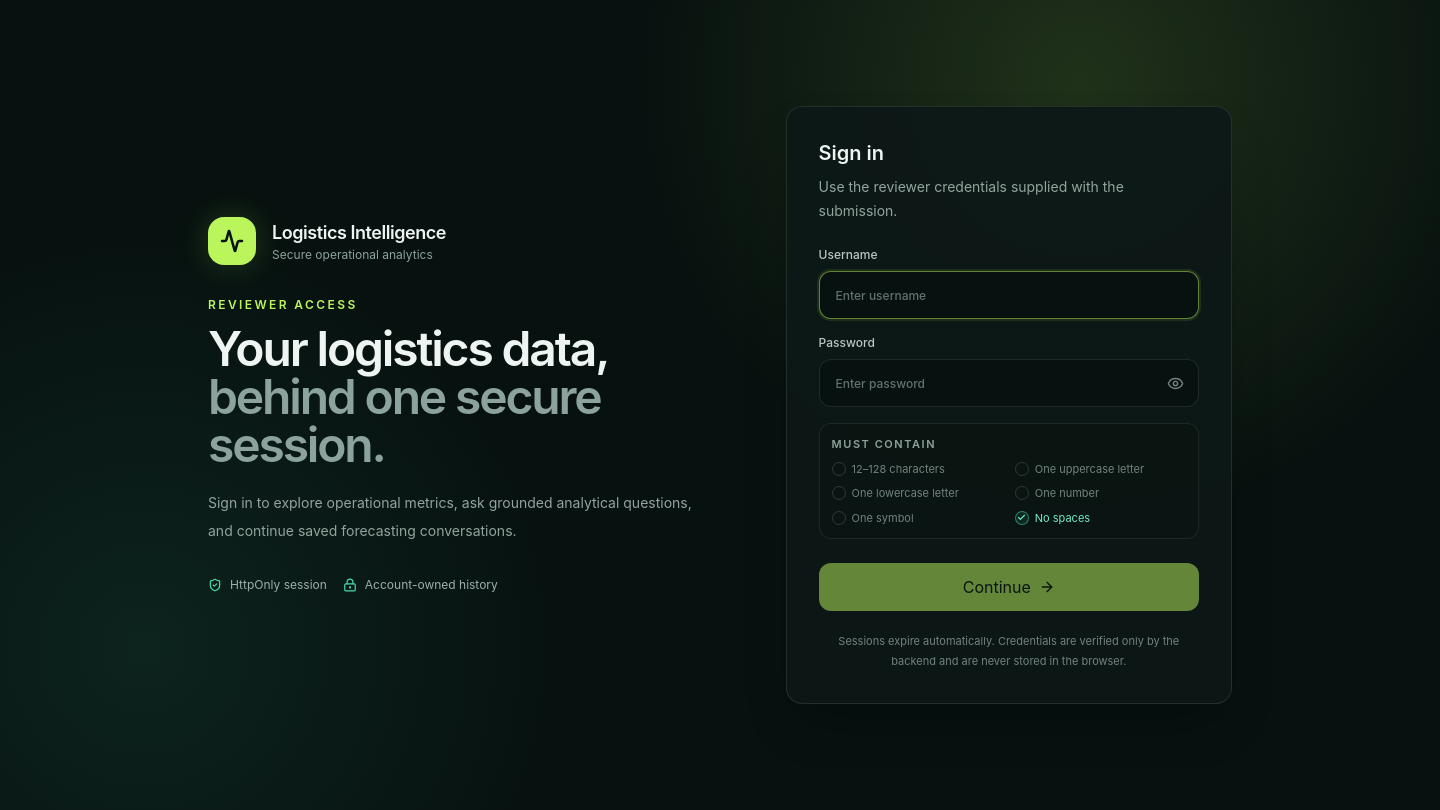
LoginScreen › shows a generic invalid-credentials error
Step 1. Type "reviewer" into the field labelled "Username" → (1009, 295), box x1=819 y1=271 x2=1199 y2=319
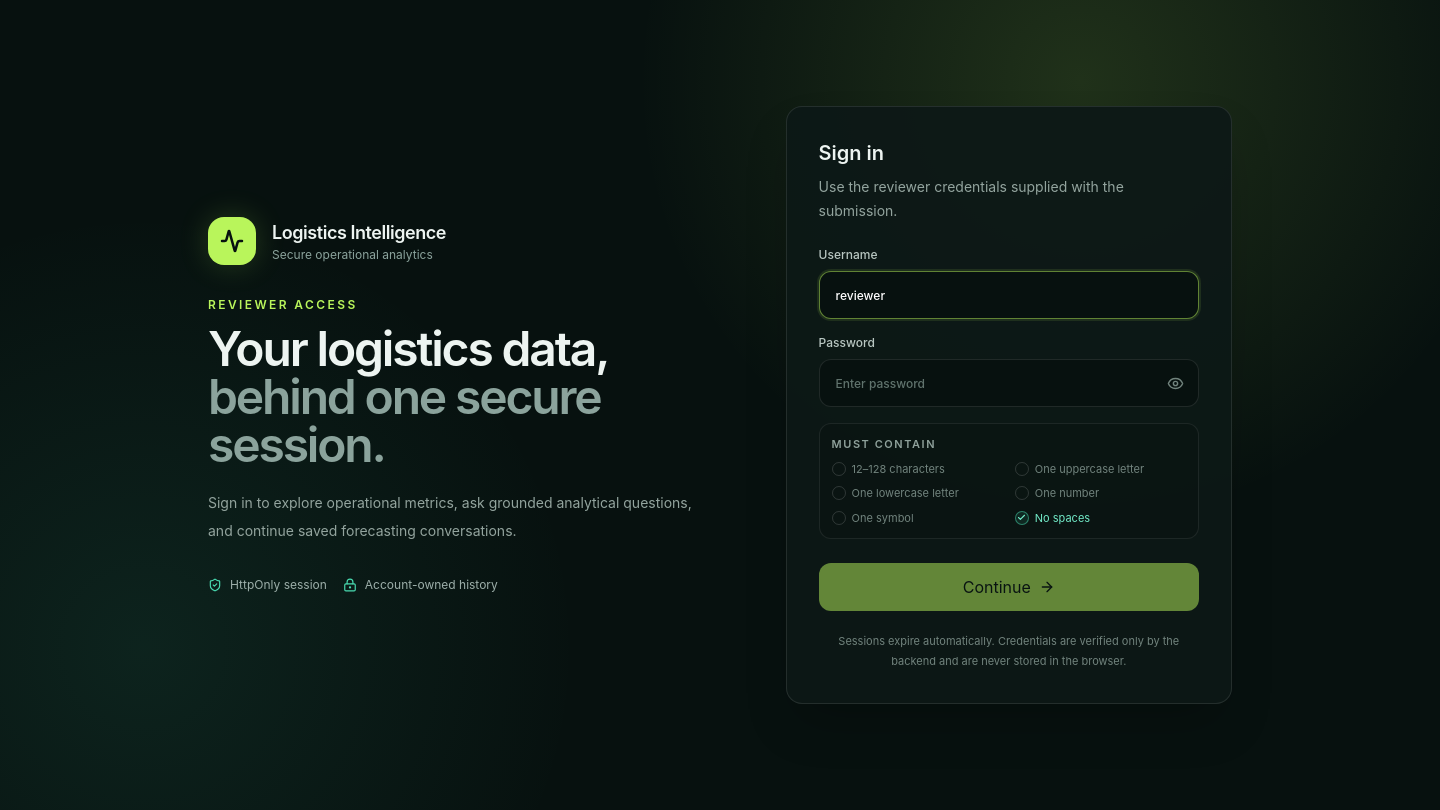
Step 2. Type "Wrong-Password9!" into the password field labelled "Password" → (1009, 383), box x1=819 y1=359 x2=1199 y2=407
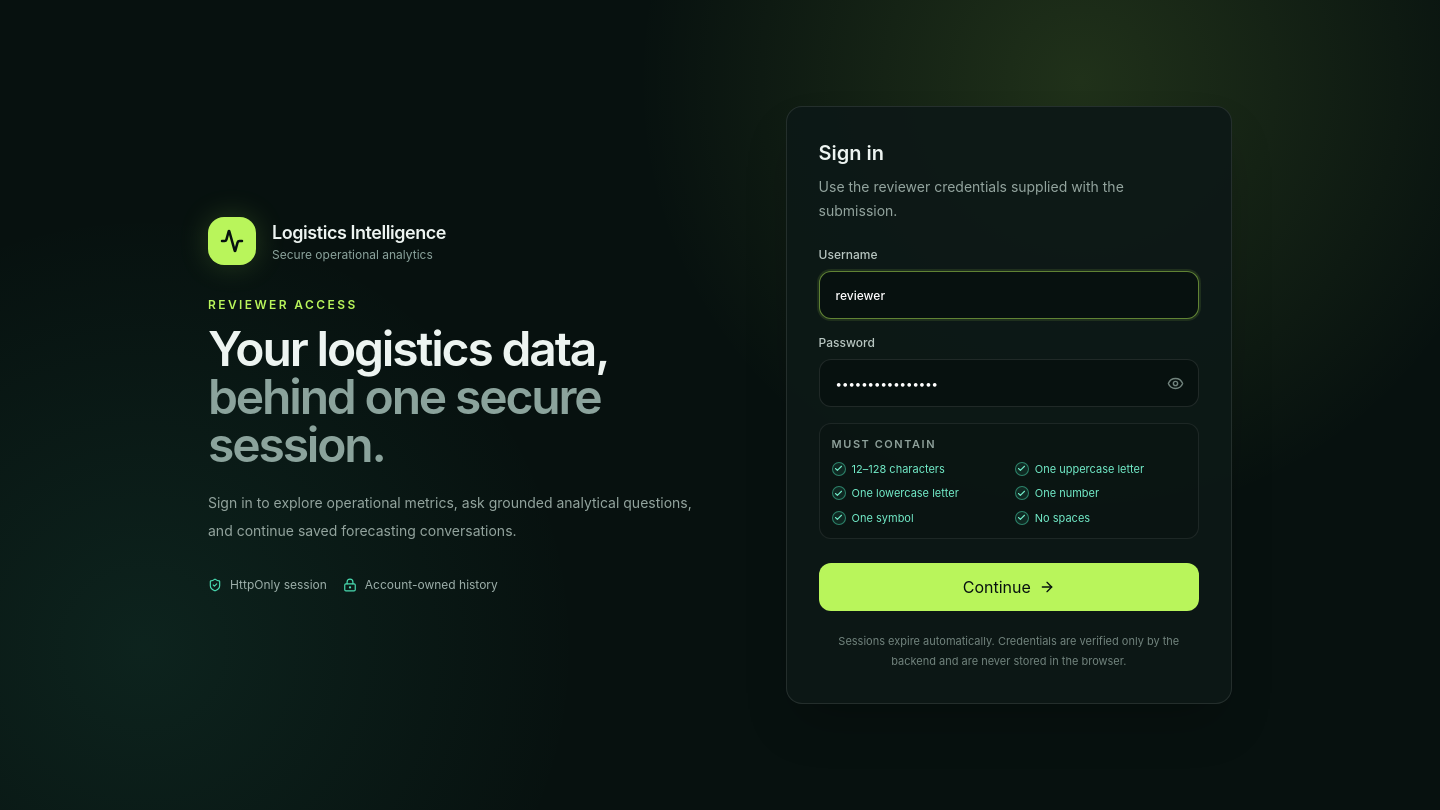
Step 3. Click the button "Continue" → click(1009, 587), box x1=819 y1=563 x2=1199 y2=611
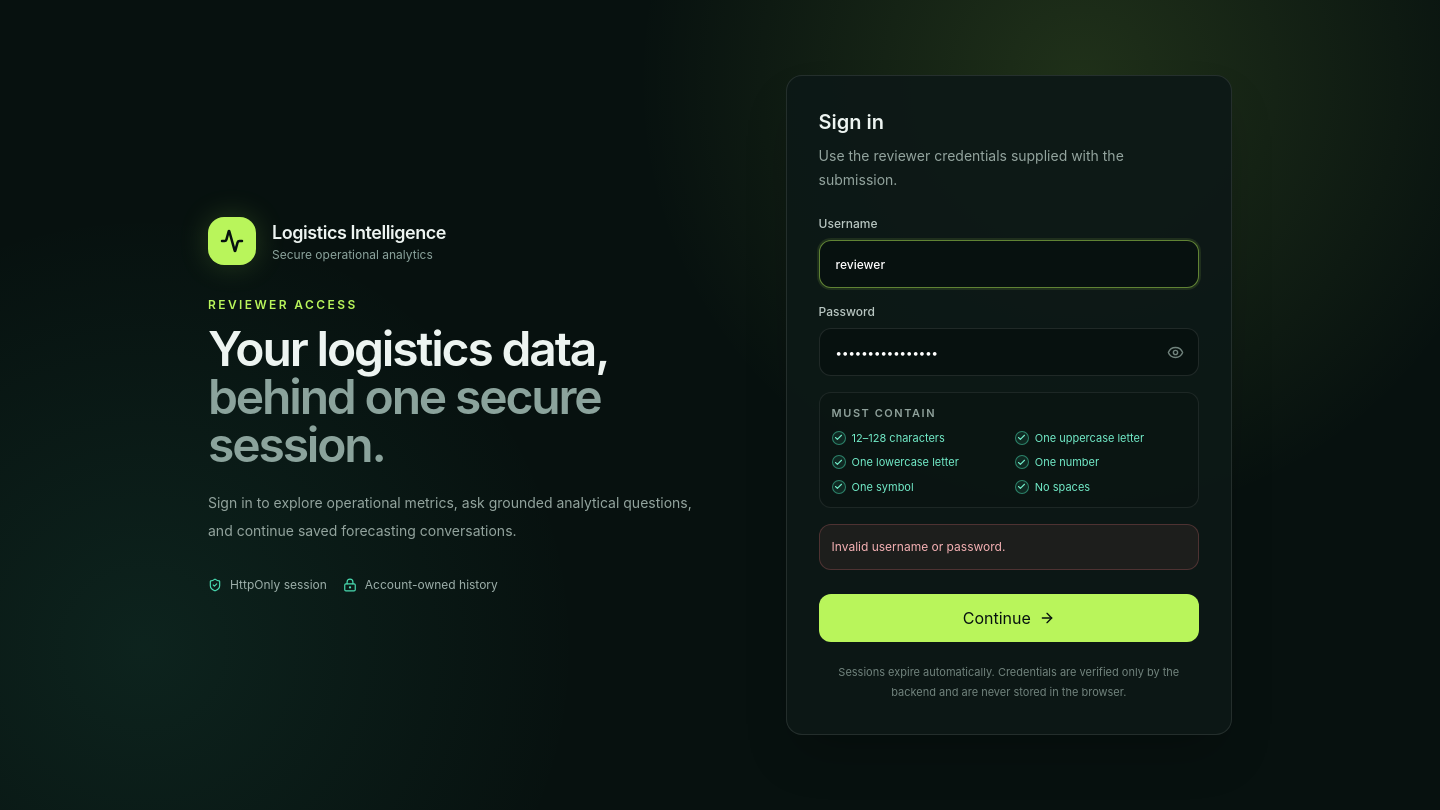
Expected: the text "Invalid username or password." is shown, x1=819 y1=524 x2=1199 y2=570
